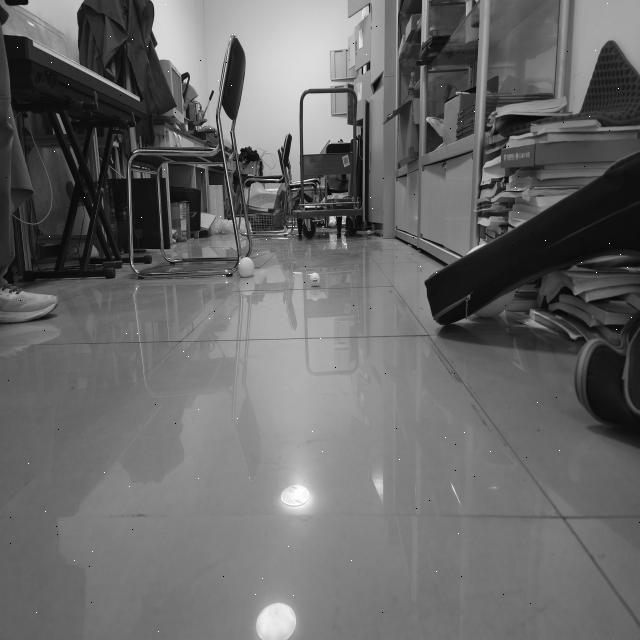ping-pong-ball: (310, 272, 320, 288)
